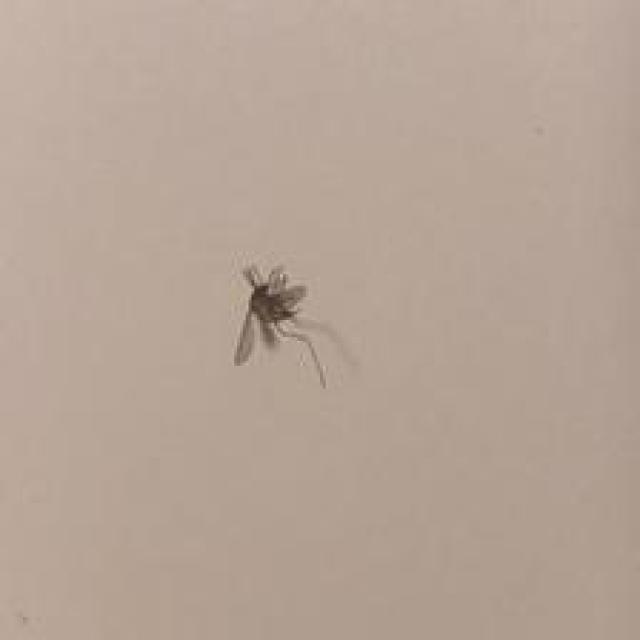Culex: (230, 261, 353, 390)
